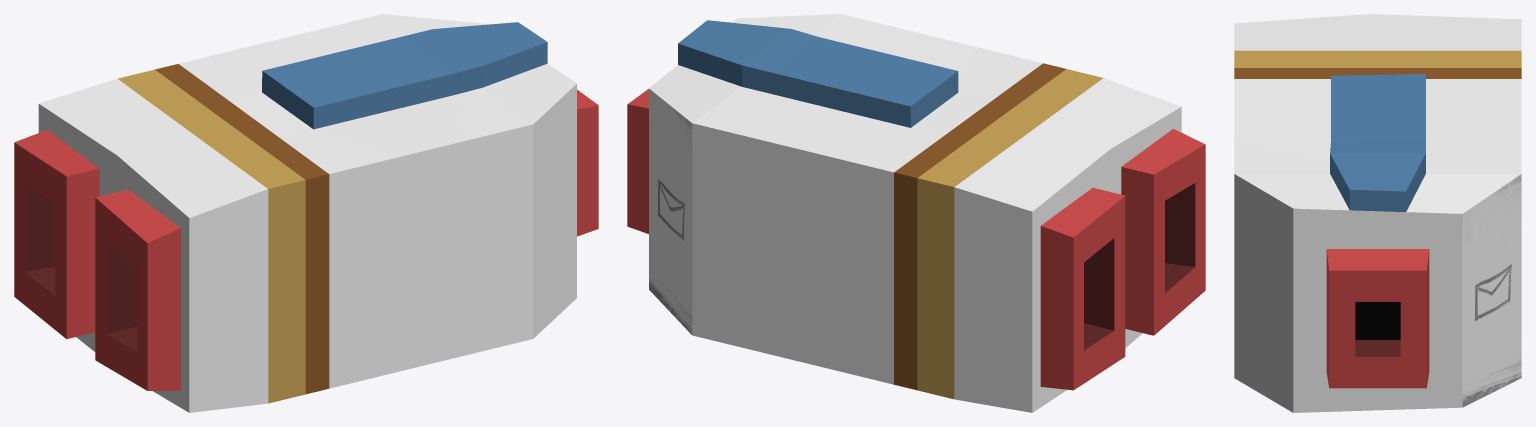
File: ship_vector.fbx
3 views of the same model, side by side, from view 1: azimuth 30°, elevation 25°; view 2: azimuth 150°, elevation 25°; view 3: azimuth 270°, elevation 25° (orthographic). The views are drawn at different scales.
Visible parts, largest first — view 1: Cube; view 2: Cube; view 3: Cube.
Boxes of the visible parts, x1,y1,x2,y2 form: Cube: (14, 14, 598, 412); Cube: (627, 14, 1205, 412); Cube: (1234, 14, 1521, 412).
Bounding box in the file's own units: 377 × 173 × 200.
